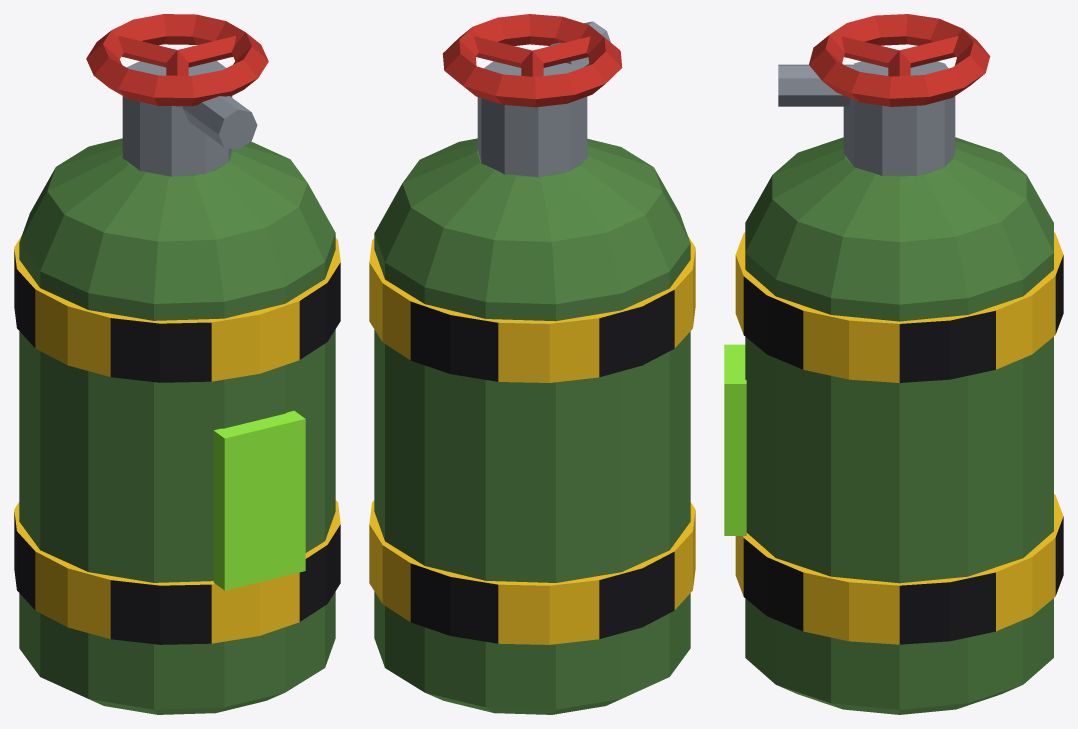
File: GasCanister.obj
The picture shows the model from 3 angles, left to right: view 1: azimuth 30°, elevation 25°; view 2: azimuth 150°, elevation 25°; view 3: azimuth 270°, elevation 25°; orthographic projection.
Visible parts, largest first — view 1: GasCanister; view 2: GasCanister; view 3: GasCanister.
Part boxes in pixels (x1=…): GasCanister: x1=14, y1=14, x2=340, y2=714; GasCanister: x1=369, y1=14, x2=695, y2=714; GasCanister: x1=724, y1=14, x2=1063, y2=714.
Bounding box in the file's own units: 0.176 × 0.364 × 0.182.
